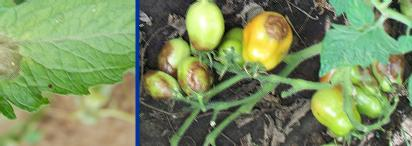Tomato leaf late blight: (0, 0, 134, 131)
